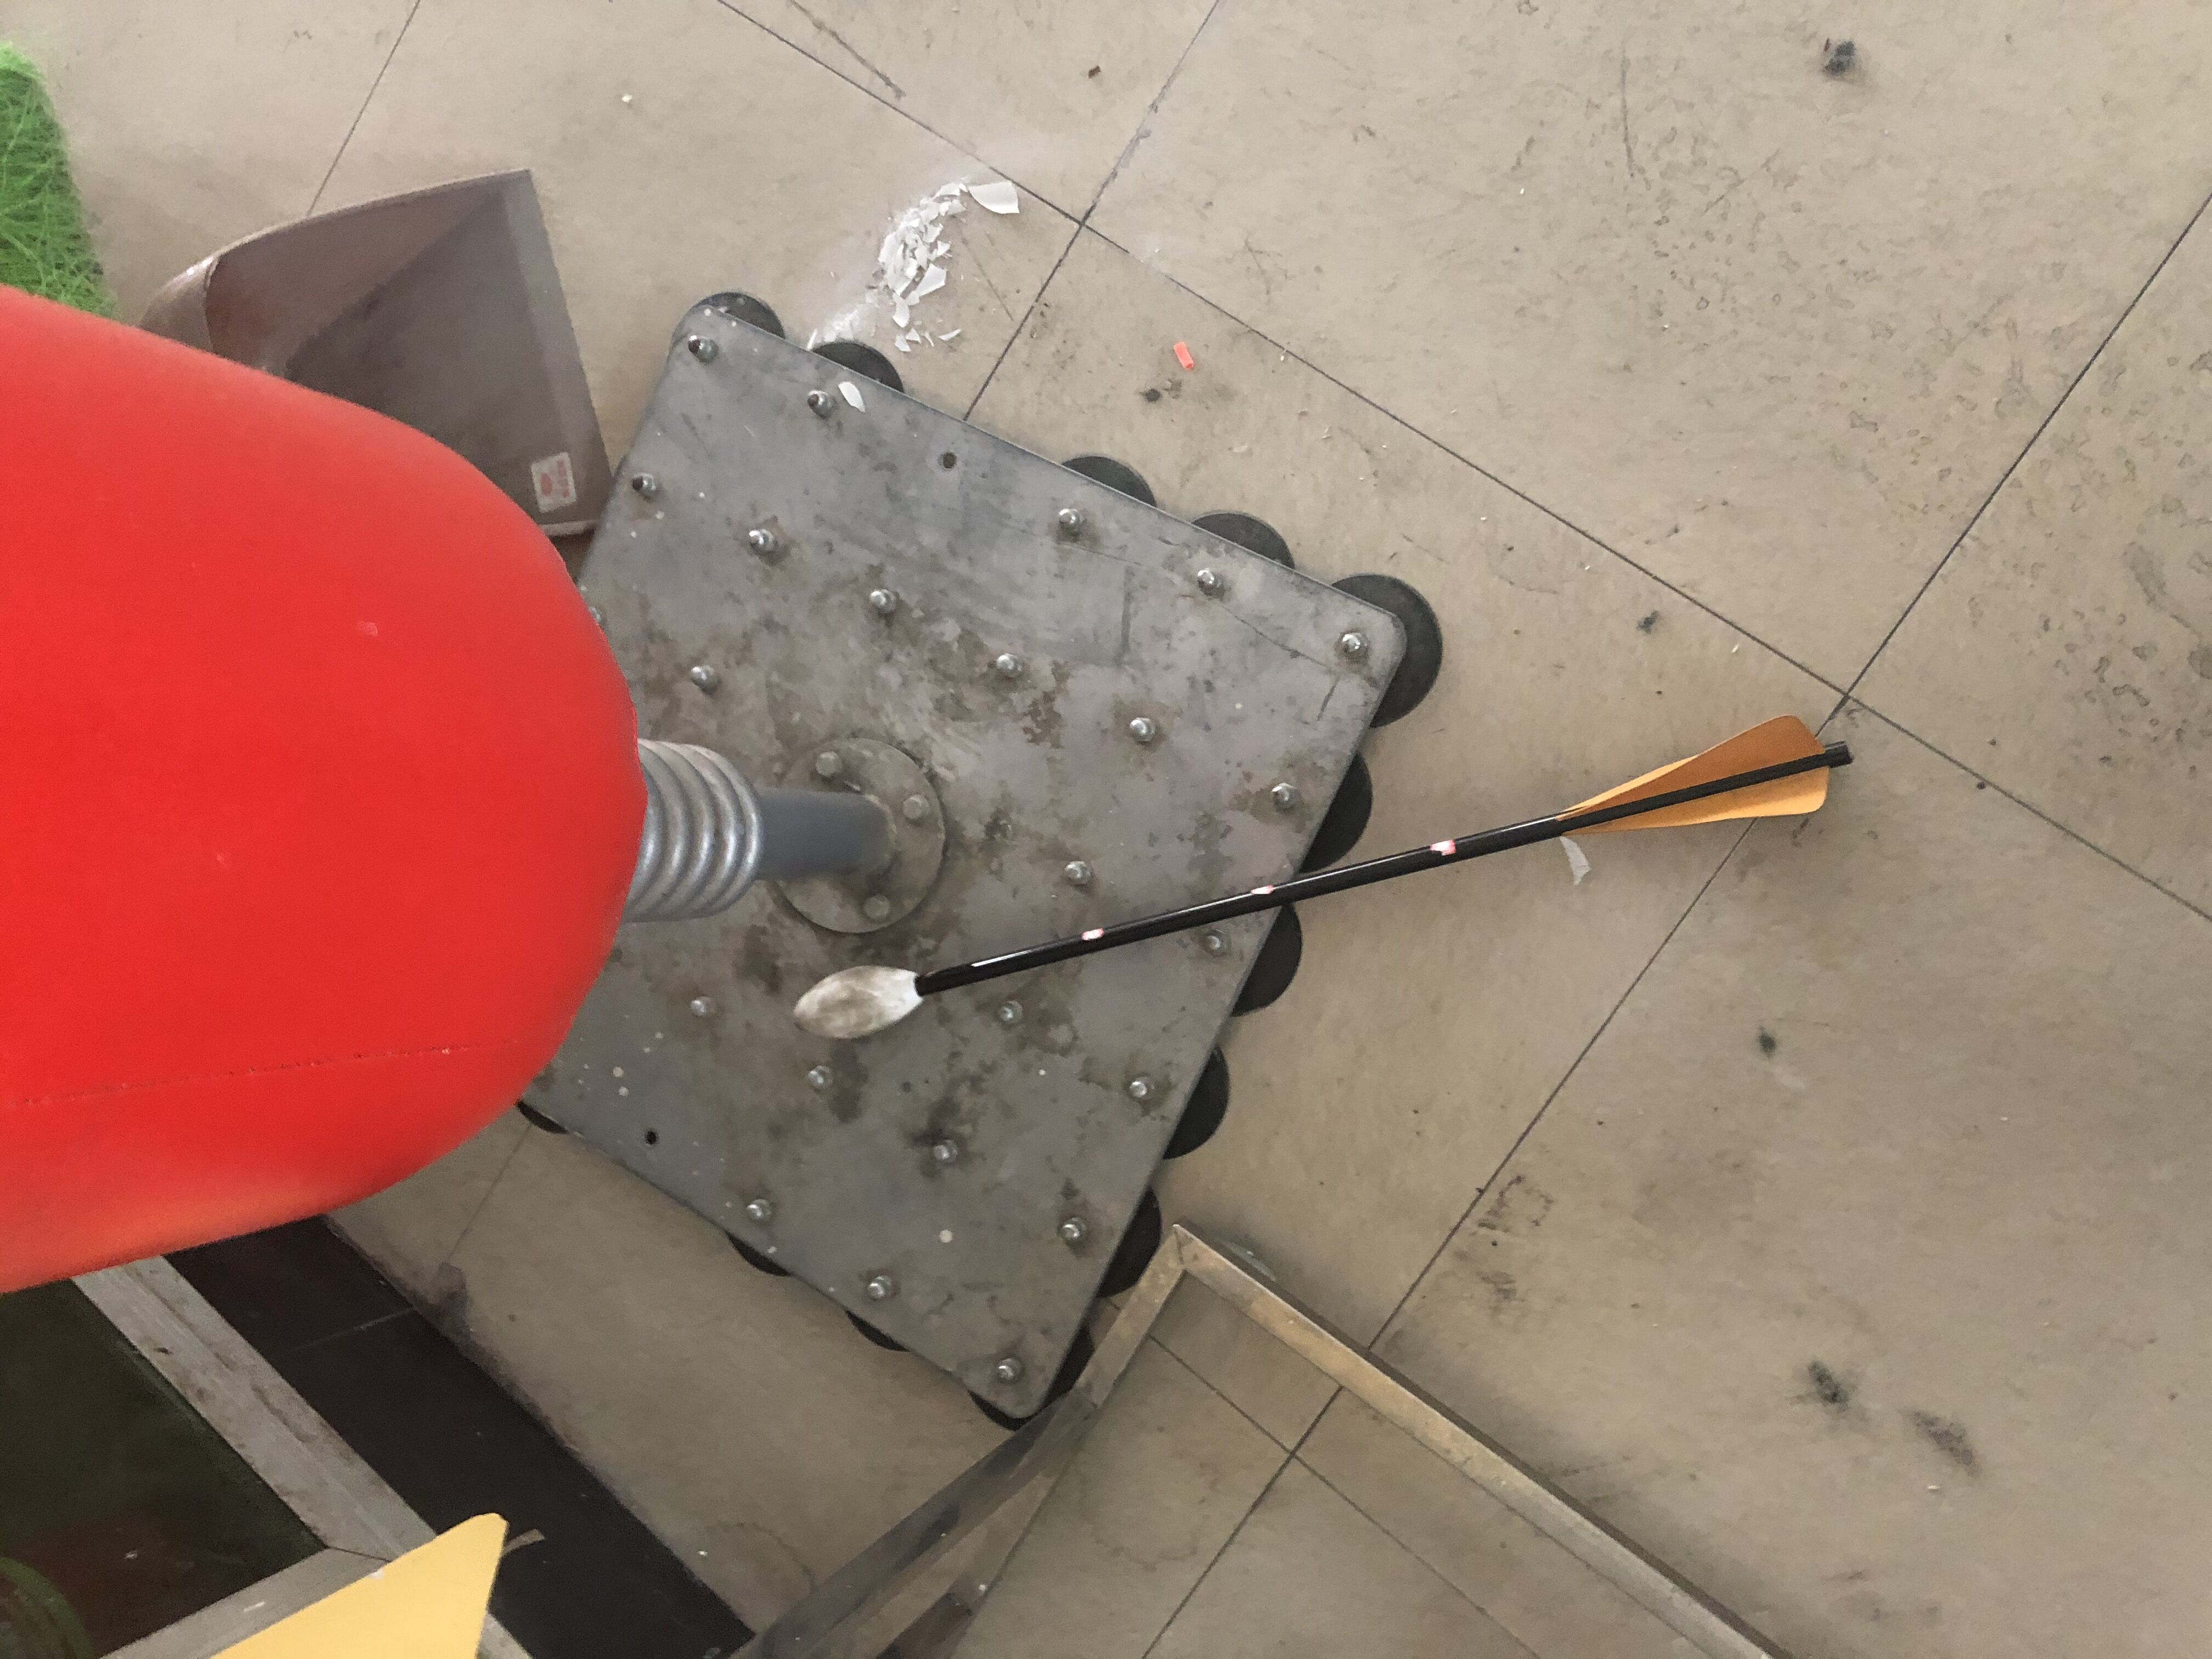arrow: (791, 716, 1851, 1039)
arrowFront: (792, 957, 928, 1039)
